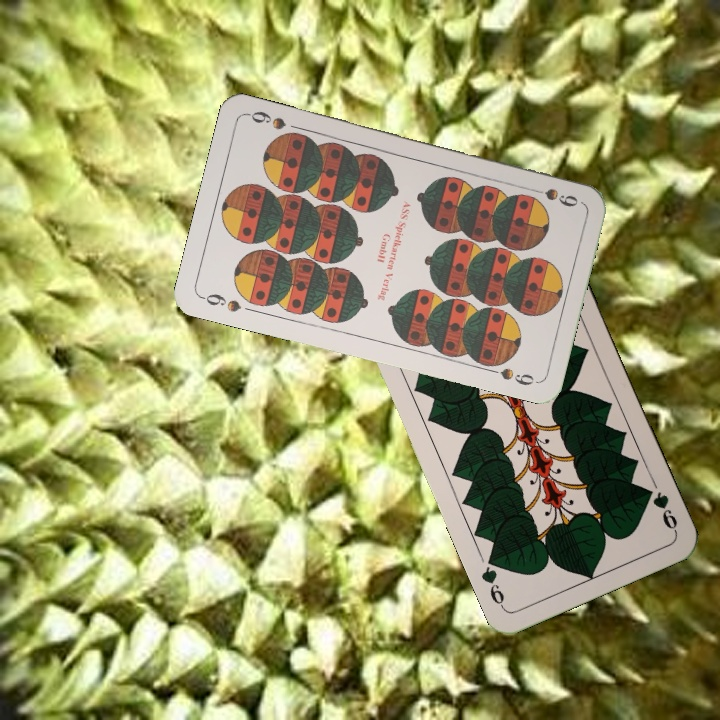G9: (640, 483, 680, 535)
S9: (524, 183, 581, 210), (197, 289, 244, 315)
